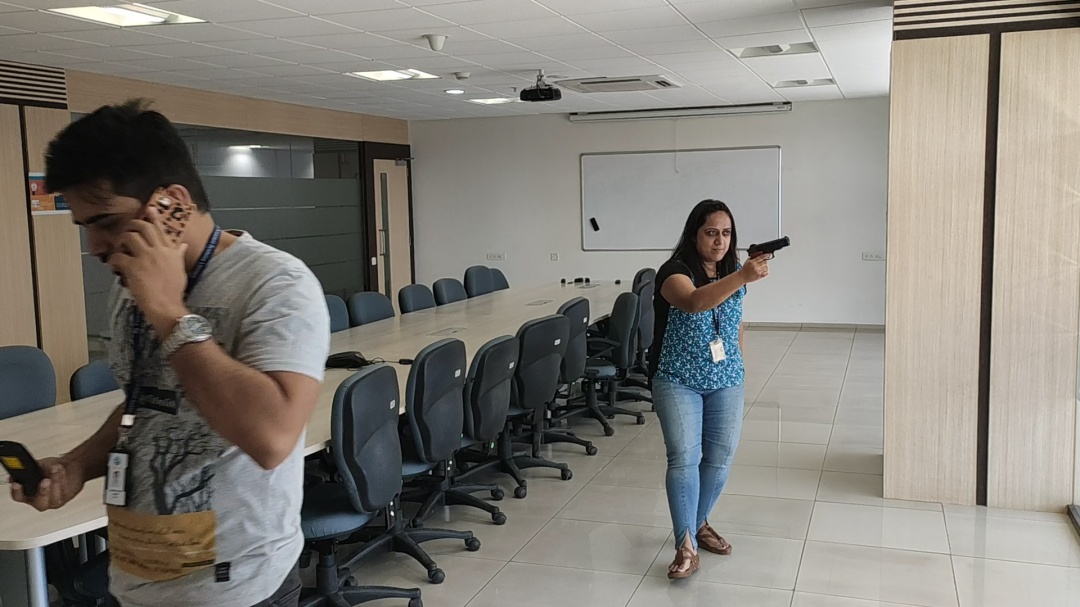gun: (747, 235, 792, 257)
